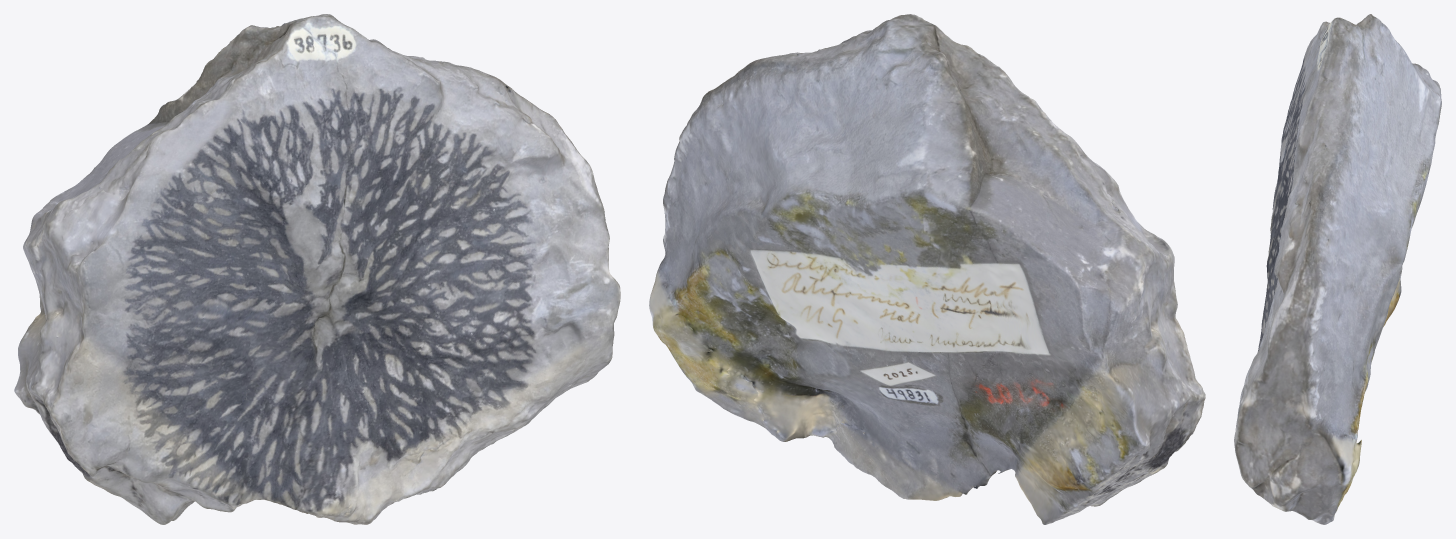
3 views of the same model, side by side, from view 1: azimuth 30°, elevation 25°; view 2: azimuth 150°, elevation 25°; view 3: azimuth 270°, elevation 25° (orthographic). The views are drawn at different scales.
Visible parts, largest first — view 1: Object_2, Object_4, Object_3, Object_5; view 2: Object_3, Object_2, Object_4, Object_5; view 3: Object_2, Object_3, Object_5, Object_4.
Part boxes in pixels (left/top/right/bottom): Object_2: left=99, top=14, right=620, bottom=428; Object_4: left=14, top=173, right=479, bottom=524; Object_3: left=18, top=16, right=613, bottom=524; Object_5: left=68, top=48, right=551, bottom=502; Object_3: left=656, top=15, right=1201, bottom=524; Object_2: left=649, top=14, right=1135, bottom=381; Object_4: left=800, top=186, right=1205, bottom=524; Object_5: left=724, top=53, right=1108, bottom=476; Object_2: left=1234, top=18, right=1435, bottom=516; Object_3: left=1234, top=14, right=1439, bottom=524; Object_5: left=1260, top=22, right=1441, bottom=344; Object_4: left=1383, top=266, right=1402, bottom=326.
Size of the model in its own units: 1.18 by 1.03 by 0.4196.
Materials: 1 (1 with a texture image).
